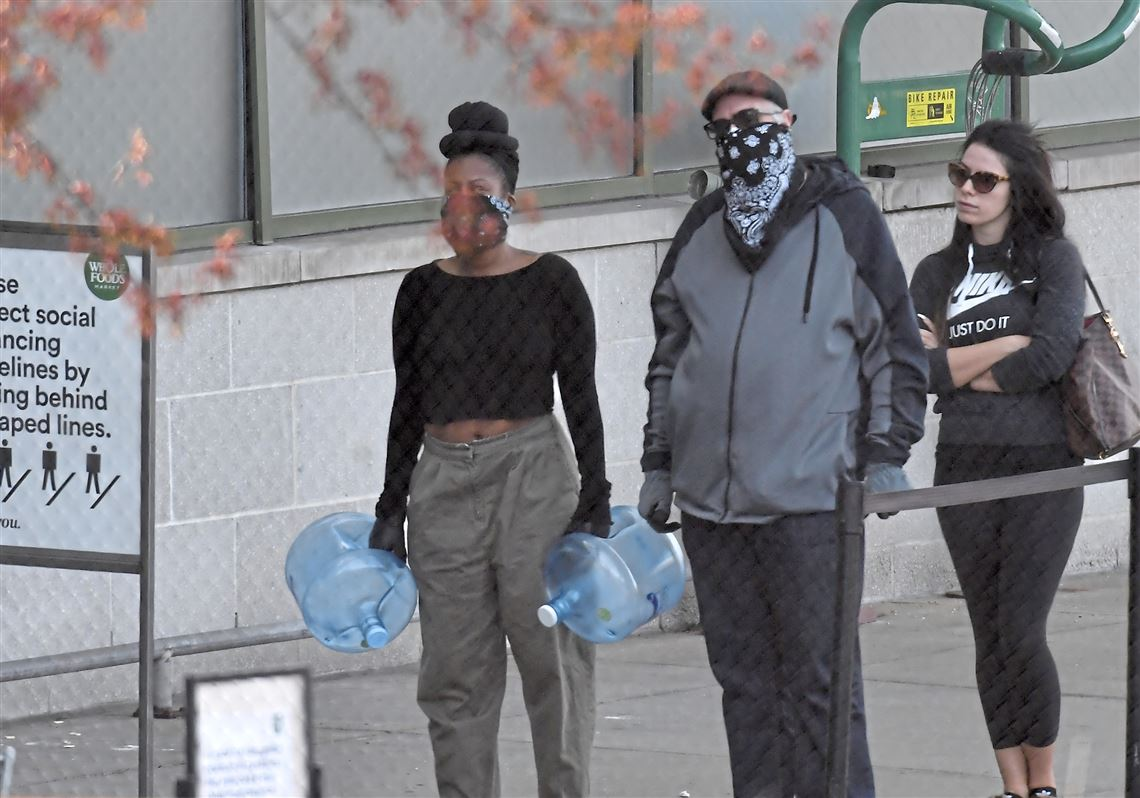Person: (657, 99, 909, 764), (370, 107, 609, 785), (904, 129, 1112, 767)
